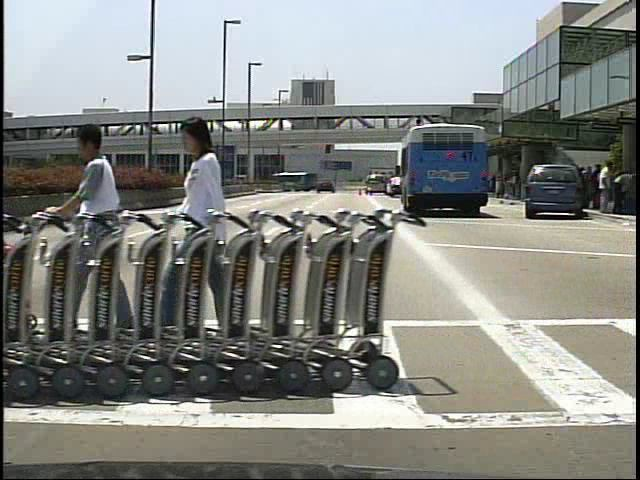person: (167, 112, 253, 350), (58, 120, 136, 339), (597, 160, 618, 216), (589, 162, 605, 213)
